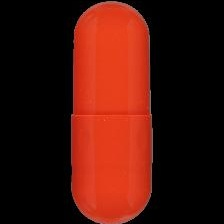16729-153: (0, 0, 224, 224)
